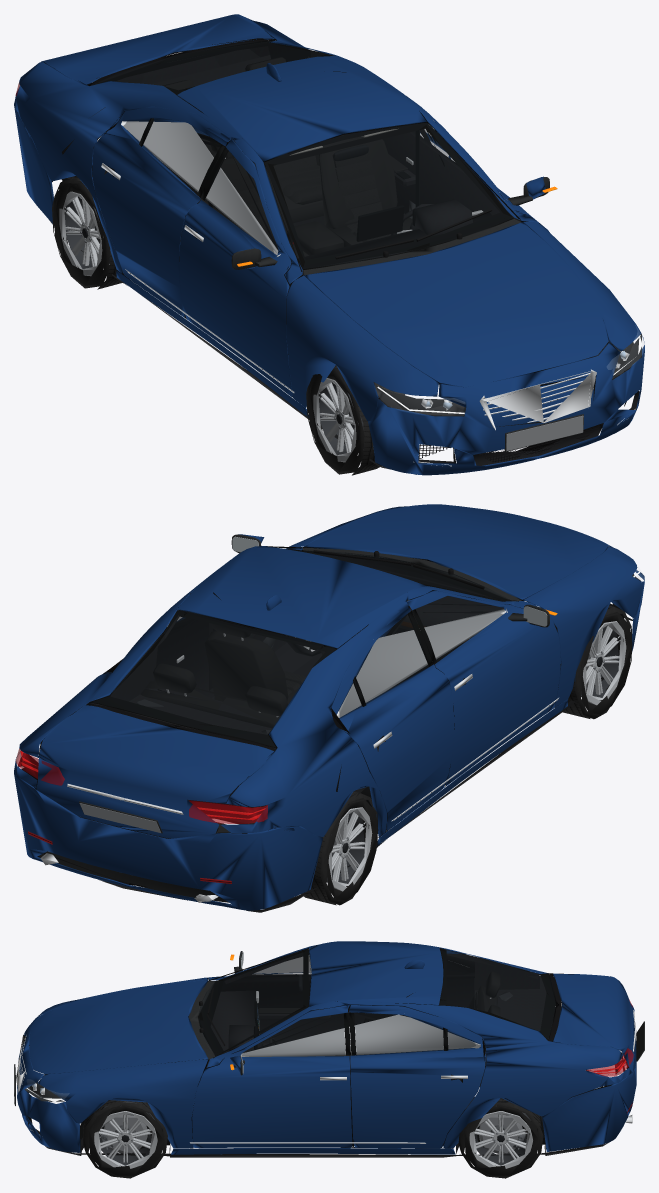
3 views of the same model, one above another, from view 1: azimuth 30°, elevation 25°; view 2: azimuth 150°, elevation 25°; view 3: azimuth 270°, elevation 25° (orthographic). The views are drawn at different scales.
Visible parts, largest first — view 1: Body, Wheel_FR, Wheel_RR; view 2: Body, Wheel_RR, Wheel_FR; view 3: Body, Wheel_FL, Wheel_RL.
Part boxes in pixels (x1,y1,x2,y2): Body: [14, 14, 644, 475]; Wheel_FR: [306, 366, 392, 475]; Wheel_RR: [52, 175, 122, 289]; Body: [14, 504, 644, 912]; Wheel_RR: [301, 792, 378, 905]; Wheel_FR: [555, 605, 632, 719]; Body: [14, 941, 644, 1157]; Wheel_FL: [83, 1100, 167, 1178]; Wheel_RL: [458, 1098, 543, 1178].
Bounding box in the file's own units: 2.16 × 1.49 × 5.01.
58 materials, 11 textured.
